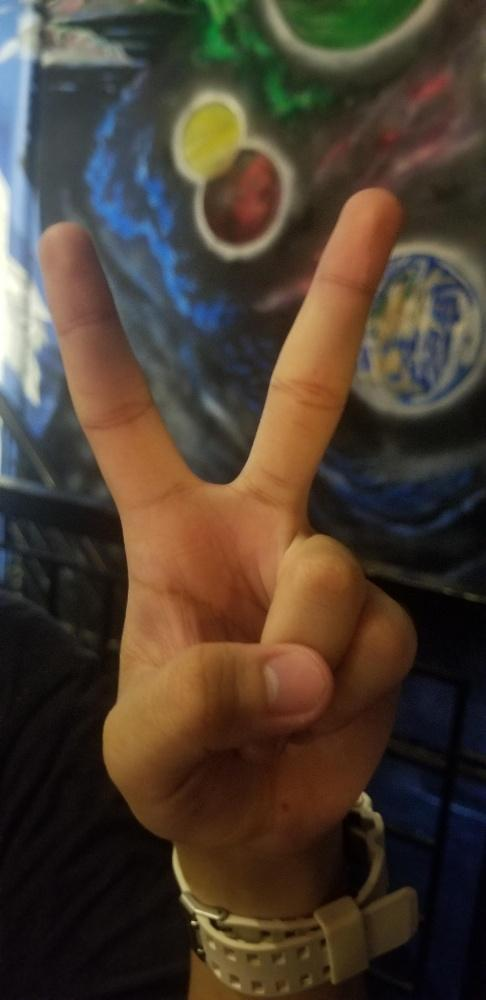v: (34, 186, 416, 829)
